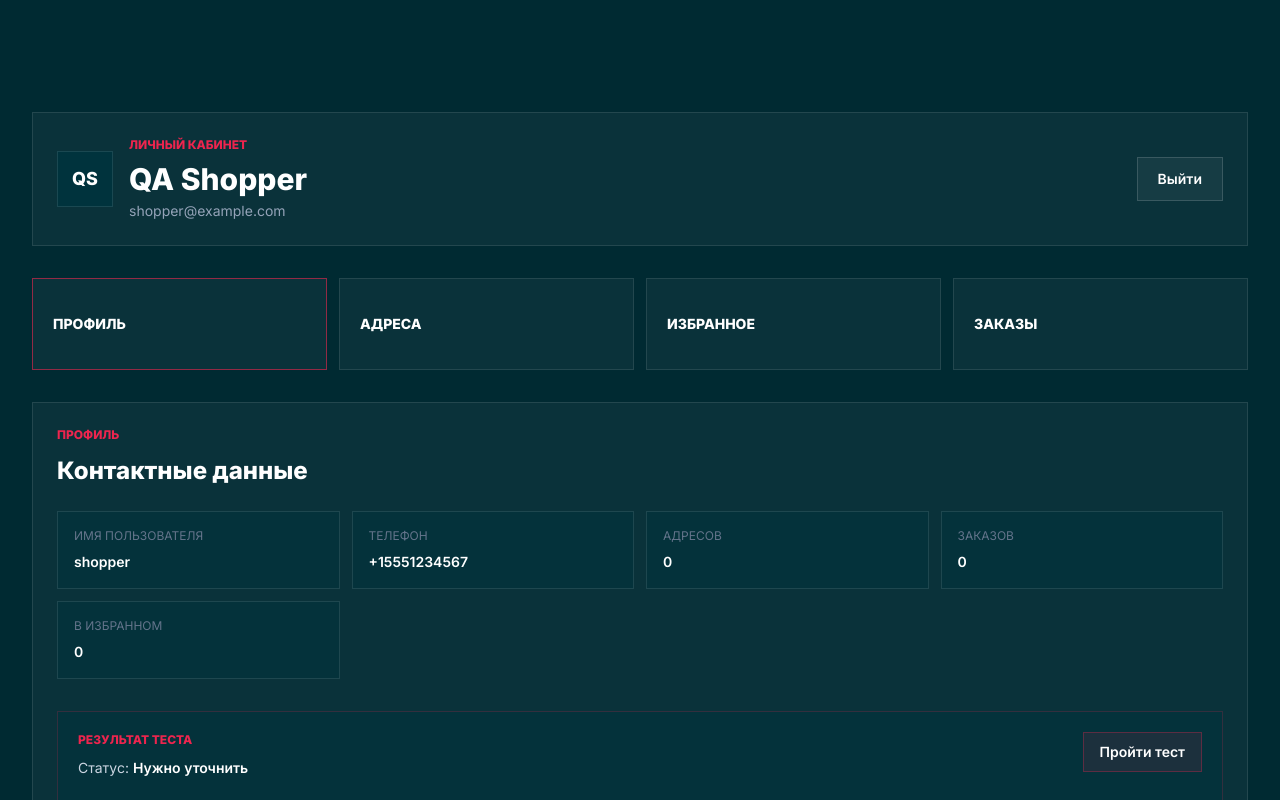
Test: AccountPage › smokes the empty orders and favorites sections for an authenticated account
Expected: the heading "QA Shopper" is shown, [129,161,307,197]
Click the button "Заказы": (1006, 324) [953,278,1248,370]
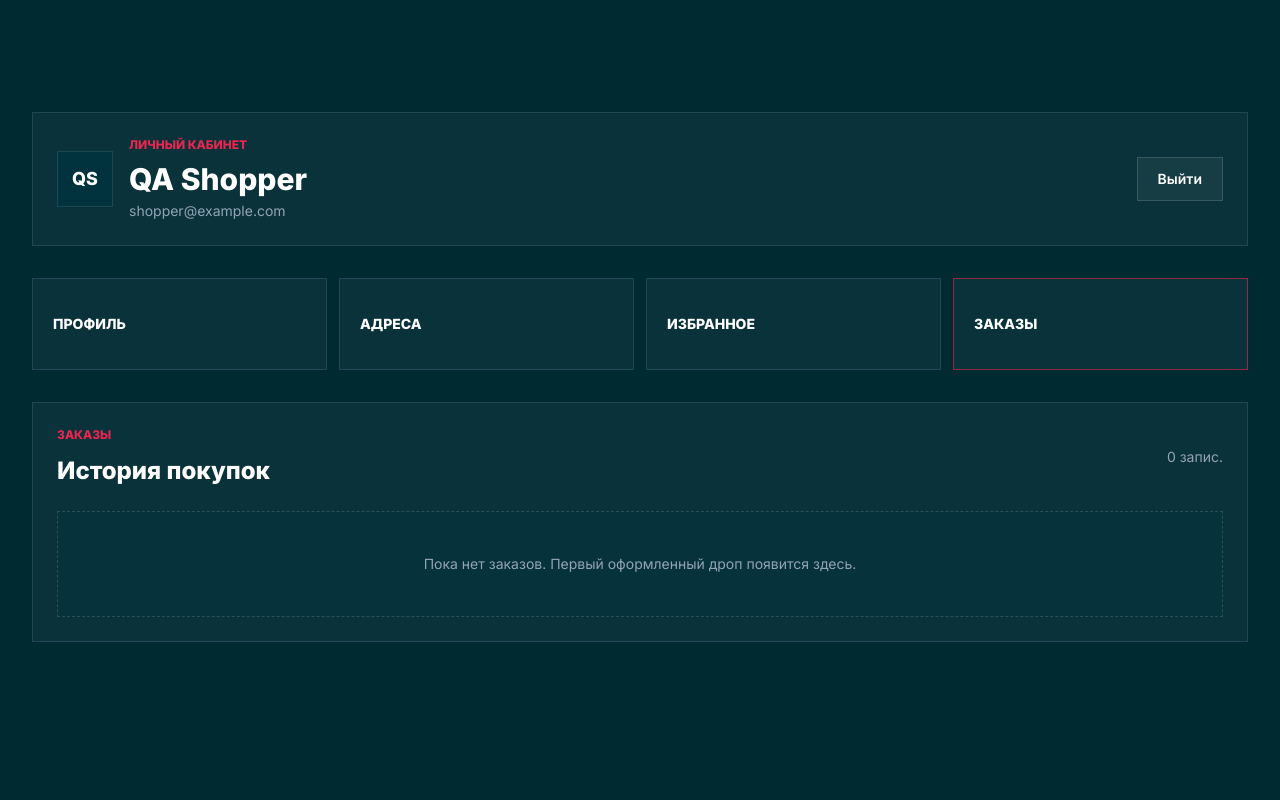
Now the heading "История покупок" is shown, box [57,455,270,487]
Now the text "Пока нет заказов. Первый оформленный дроп появится здесь." is shown, box [57,511,1223,617]
Click the button "Избранное": (711, 324) [646,278,941,370]
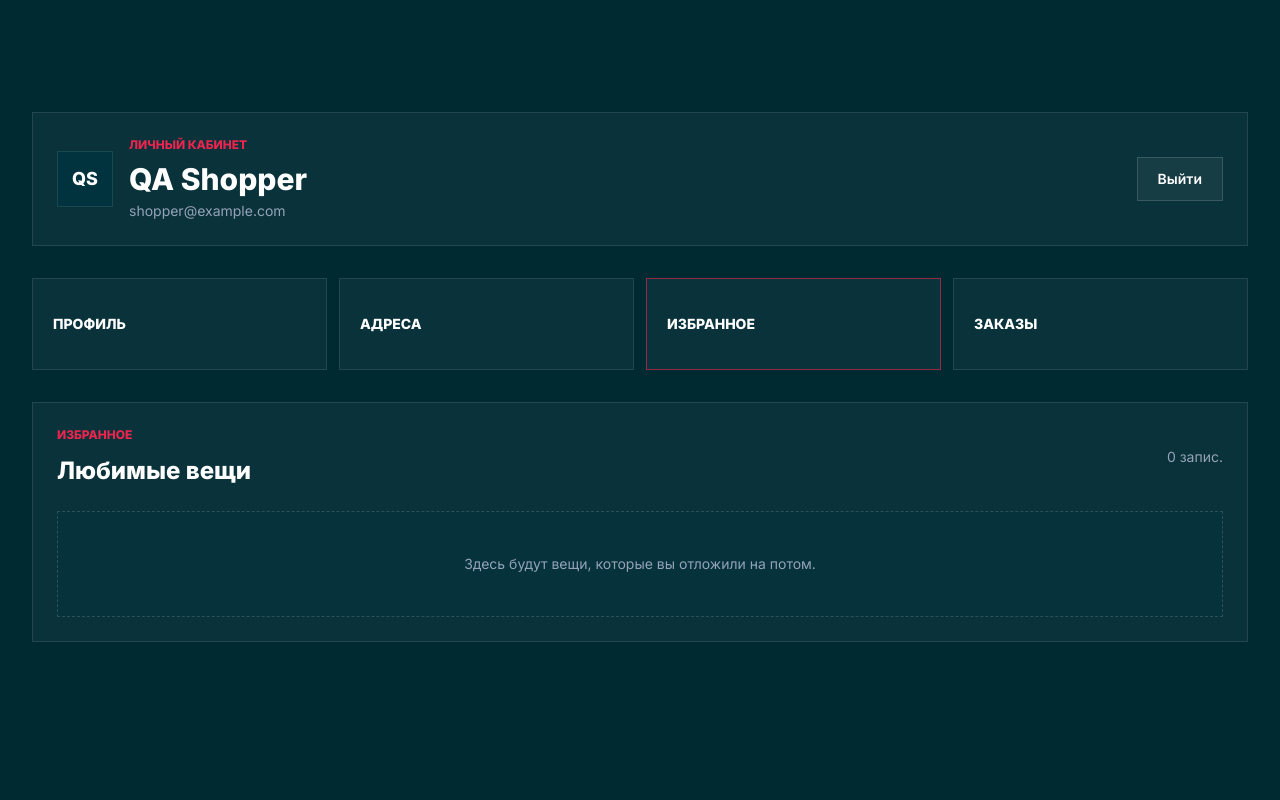
Now the heading "Любимые вещи" is shown, box [57,455,251,487]
Now the text "Здесь будут вещи, которые вы отложили на потом." is shown, box [57,511,1223,617]
